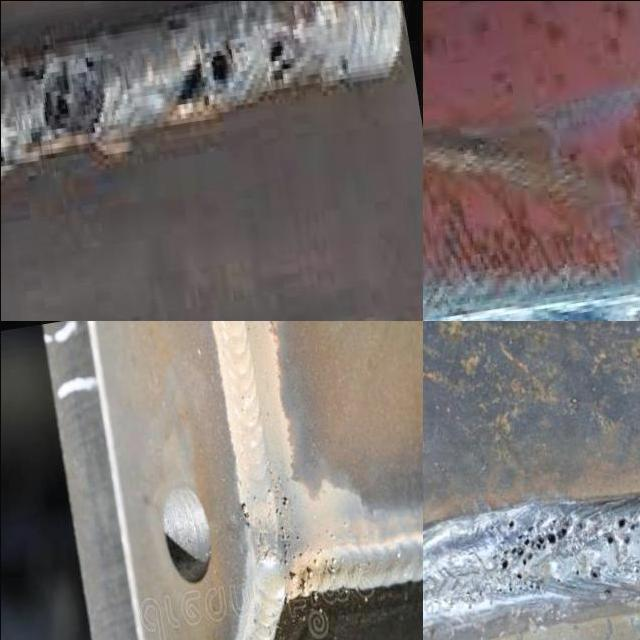defect: (492, 509, 575, 588), (275, 523, 346, 593), (169, 39, 239, 110), (37, 40, 73, 135), (603, 511, 640, 580), (76, 47, 101, 115), (266, 32, 294, 87), (237, 492, 253, 534), (273, 491, 292, 520), (583, 560, 604, 586), (338, 54, 352, 82), (0, 150, 10, 175)
